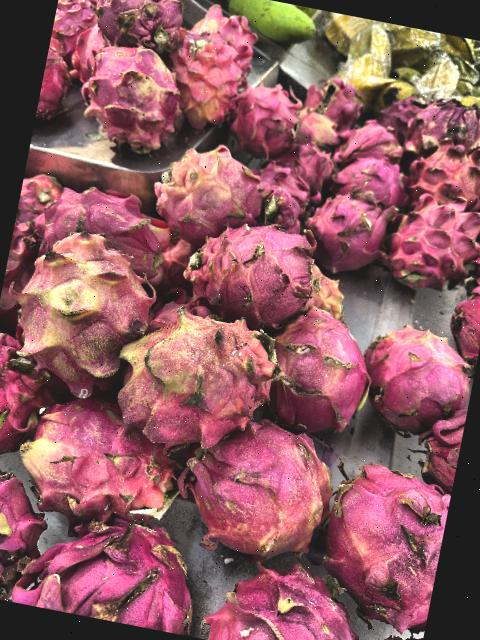buah-naga-belum-matang: (99, 294, 287, 450), (10, 221, 161, 394), (175, 410, 340, 564), (15, 394, 186, 532), (73, 40, 192, 159), (150, 138, 270, 238)
buah-naga-matang: (297, 450, 454, 638), (15, 504, 217, 638), (180, 212, 328, 332), (194, 545, 374, 640), (349, 310, 480, 432), (262, 304, 376, 434), (381, 189, 480, 294), (161, 26, 256, 132), (0, 457, 61, 605), (302, 190, 392, 274), (0, 324, 51, 470), (226, 78, 304, 156), (406, 133, 480, 213), (87, 0, 192, 51), (246, 163, 317, 236), (185, 0, 265, 63), (334, 150, 414, 210), (411, 95, 480, 154), (274, 140, 344, 197), (36, 40, 84, 121), (336, 116, 410, 168), (48, 0, 96, 55)
